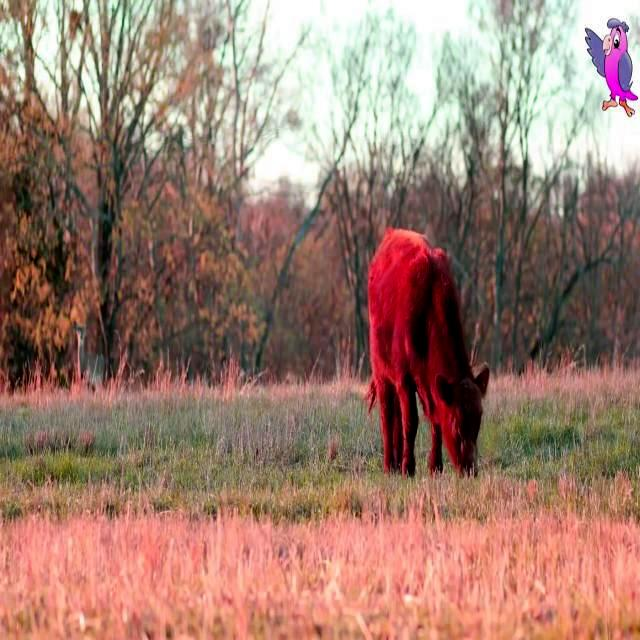COW: (369, 229, 489, 474)
